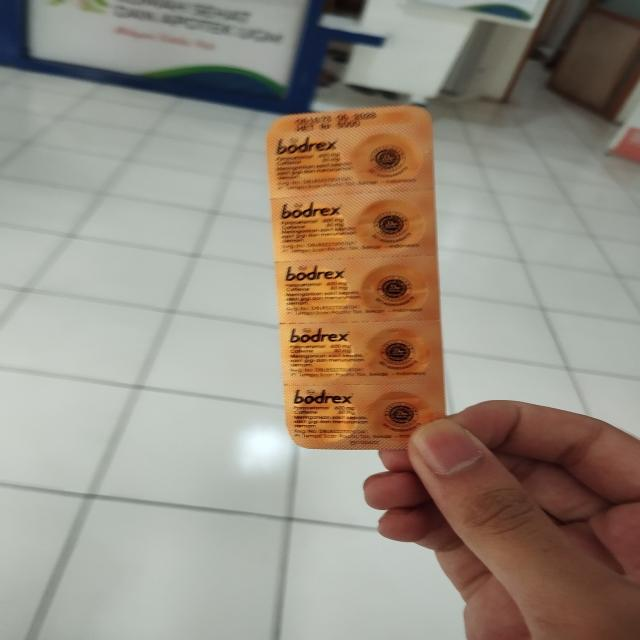B3: (266, 104, 441, 451)
